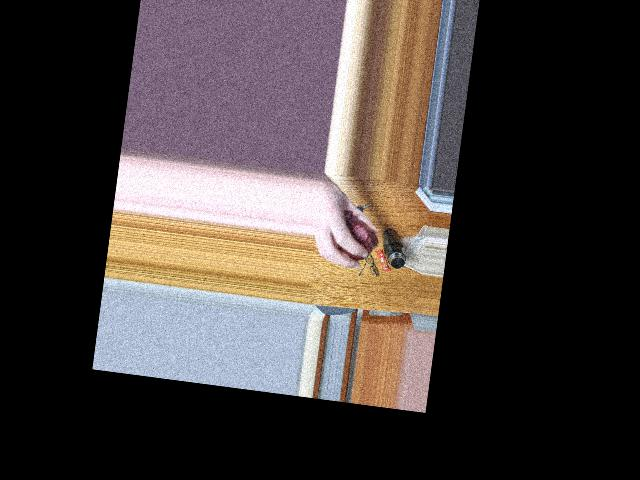onion: (337, 214, 376, 260)
